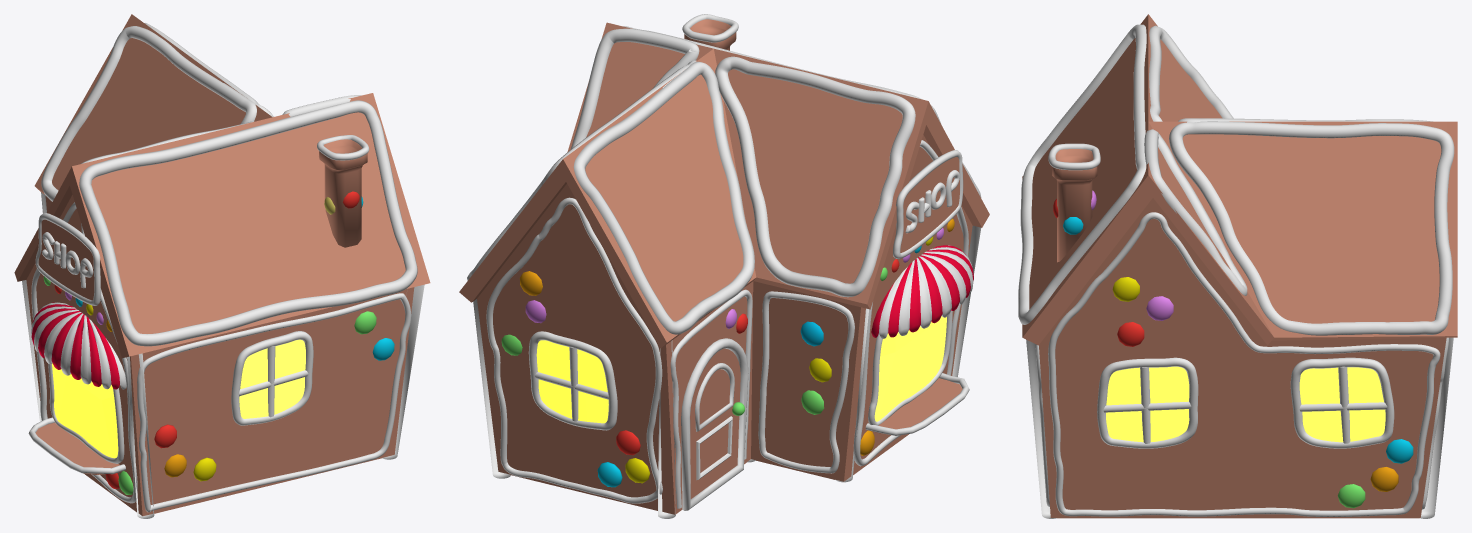
File: shop.glb
The picture shows the model from 3 angles, left to right: view 1: azimuth 30°, elevation 25°; view 2: azimuth 150°, elevation 25°; view 3: azimuth 270°, elevation 25°; orthographic projection. The views are drawn at different scales.
Visible parts, largest first — view 1: Cube.002, Simple_GP_Layer.011, Simple_GP_Layer.014, Simple_GP_Layer.015, Sphere, Simple_GP_Layer.013, Plane, Plane.001, Cube.003, Cube.004, Cylinder.004, Simple_GP_Layer.020 (+8 smaller); view 2: Cube.002, Simple_GP_Layer.014, Simple_GP_Layer.010, Circle.002, Simple_GP_Layer.013, Simple_GP_Layer.018, Sphere, Plane, Plane.001, Simple_GP_Layer.012, Cube.004, Simple_GP_Layer.020 (+9 smaller); view 3: Cube.002, Simple_GP_Layer.009, Simple_GP_Layer.014, Simple_GP_Layer.017, Simple_GP_Layer.016, Simple_GP_Layer.011, Simple_GP_Layer.012, Cube.003, Simple_GP_Layer.010, Cylinder.005, Cylinder.004, BézierCurve.001 (+7 smaller).
Boxes of the visible parts, x1=… form: Cube.002: x1=14, y1=14, x2=430, y2=516; Simple_GP_Layer.011: x1=79, y1=100, x2=417, y2=346; Simple_GP_Layer.014: x1=31, y1=202, x2=411, y2=512; Simple_GP_Layer.015: x1=231, y1=331, x2=313, y2=425; Sphere: x1=31, y1=302, x2=126, y2=389; Simple_GP_Layer.013: x1=41, y1=26, x2=256, y2=201; Plane: x1=52, y1=363, x2=118, y2=458; Plane.001: x1=35, y1=213, x2=101, y2=305; Cube.003: x1=318, y1=139, x2=367, y2=247; Cube.004: x1=35, y1=422, x2=119, y2=474; Cylinder.004: x1=382, y1=284, x2=424, y2=459; Simple_GP_Layer.020: x1=48, y1=363, x2=124, y2=463; Cube.002: x1=459, y1=22, x2=989, y2=514; Simple_GP_Layer.014: x1=486, y1=140, x2=968, y2=508; Simple_GP_Layer.010: x1=715, y1=56, x2=915, y2=297; Circle.002: x1=681, y1=338, x2=748, y2=510; Simple_GP_Layer.013: x1=573, y1=61, x2=754, y2=334; Simple_GP_Layer.018: x1=528, y1=331, x2=617, y2=430; Sphere: x1=871, y1=245, x2=973, y2=338; Plane: x1=874, y1=316, x2=946, y2=421; Plane.001: x1=893, y1=150, x2=963, y2=258; Simple_GP_Layer.012: x1=571, y1=28, x2=699, y2=148; Cube.004: x1=867, y1=378, x2=962, y2=433; Simple_GP_Layer.020: x1=868, y1=310, x2=952, y2=425; Cube.002: x1=1022, y1=14, x2=1457, y2=518; Simple_GP_Layer.009: x1=1169, y1=121, x2=1454, y2=335; Simple_GP_Layer.014: x1=1035, y1=212, x2=1448, y2=516; Simple_GP_Layer.017: x1=1290, y1=357, x2=1394, y2=448; Simple_GP_Layer.016: x1=1097, y1=357, x2=1198, y2=448; Simple_GP_Layer.011: x1=1018, y1=24, x2=1146, y2=324; Simple_GP_Layer.012: x1=1144, y1=129, x2=1247, y2=295; Cube.003: x1=1052, y1=149, x2=1097, y2=262; Simple_GP_Layer.010: x1=1149, y1=25, x2=1233, y2=121; Cylinder.005: x1=1420, y1=337, x2=1453, y2=518; Cylinder.004: x1=1026, y1=339, x2=1056, y2=518; BézierCurve.001: x1=1048, y1=143, x2=1100, y2=170.
Bounding box in the file's own units: 3.42 × 3.3 × 3.67.
